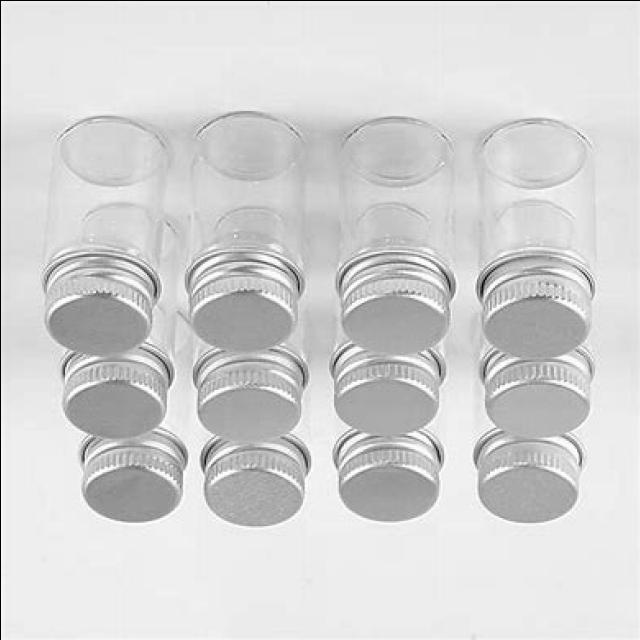vial: (344, 276, 446, 348), (200, 372, 315, 432), (334, 458, 436, 522), (197, 270, 292, 338), (68, 466, 180, 520), (492, 292, 588, 355), (472, 461, 576, 519), (338, 371, 438, 430), (476, 386, 584, 438), (51, 294, 148, 349), (208, 464, 302, 520), (74, 382, 180, 428)
